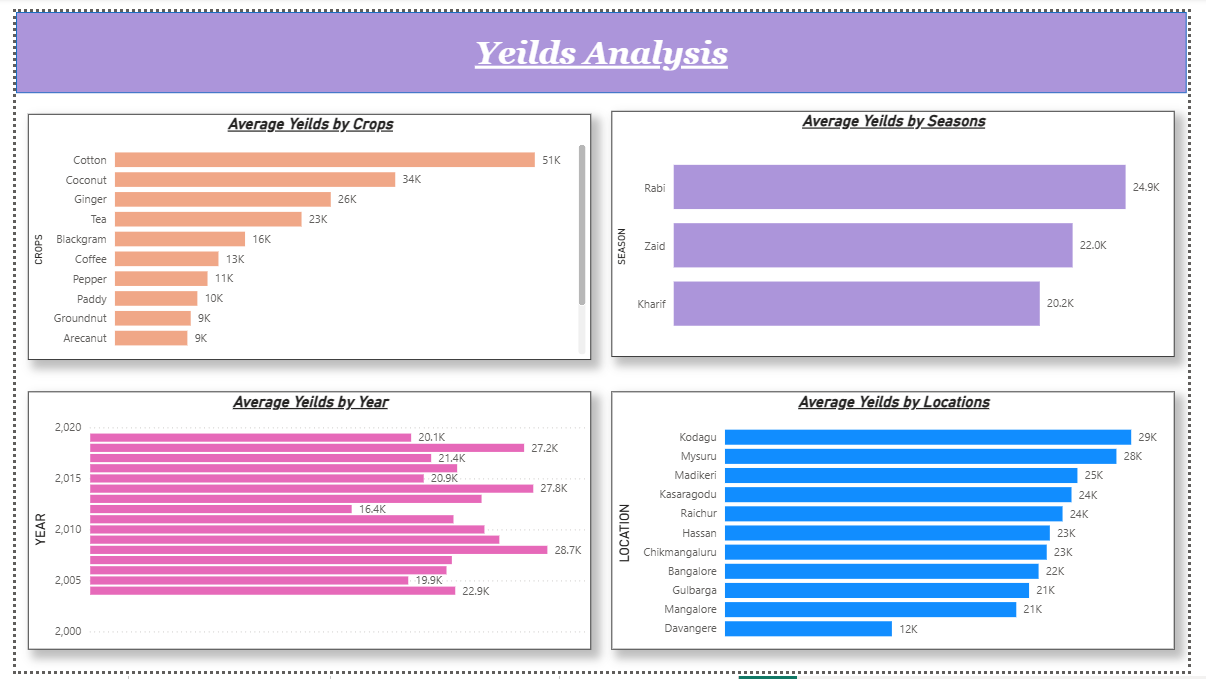

What the dashboard file says about the page in this screenshot:
{"tool":"powerbi","page":{"name":"Yeilds Analysis","canvas":[1280,720],"ordinal":3},"visuals":[{"type":"shape","box":[0,0,1279.4,88.8],"z":0},{"type":"barChart","title":"Average Yeilds  by Crops","fields":{"Category":["AGRICULTURE.CROPS"],"Y":["Sum(AGRICULTURE.YEILDS)"]},"box":[13.3,111.1,615.6,268.9],"z":1000},{"type":"barChart","title":"Average Yeilds by Seasons","fields":{"Category":["AGRICULTURE.SEASON"],"Y":["Sum(AGRICULTURE.YEILDS)"]},"box":[651.1,108.9,615.6,268.9],"z":2000},{"type":"barChart","title":"Average Yeilds  by Year","fields":{"Category":["AGRICULTURE.YEAR"],"Y":["Sum(AGRICULTURE.YEILDS)"]},"box":[13.3,415.6,615.6,282.2],"z":3000},{"type":"barChart","title":"Average Yeilds  by Locations","fields":{"Category":["AGRICULTURE.LOCATION"],"Y":["Sum(AGRICULTURE.YEILDS)"]},"box":[651.1,415.6,615.6,282.2],"z":4000}]}

Visuals, with their boxes in screenshot pixels (x1, y1, x2, y2), scaled from the page's 1280x720 canvas onto the 1206x679 screenshot:
shape: region(0, 0, 1205, 84)
"Average Yeilds  by Crops" barChart: region(13, 105, 593, 358)
"Average Yeilds by Seasons" barChart: region(613, 103, 1193, 356)
"Average Yeilds  by Year" barChart: region(13, 392, 593, 658)
"Average Yeilds  by Locations" barChart: region(613, 392, 1193, 658)
